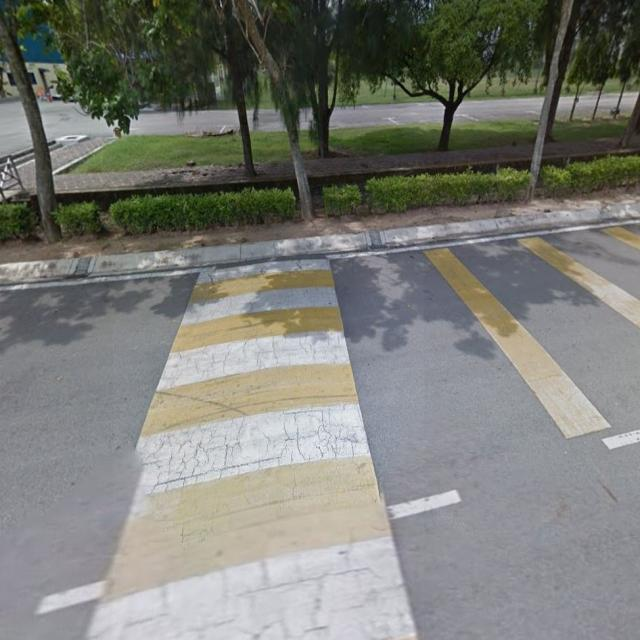speed-bump: (113, 254, 424, 640)
